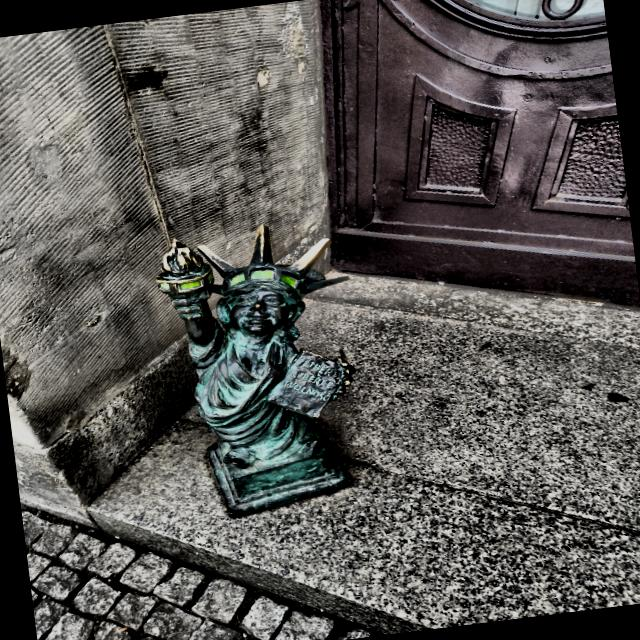LadyWolnosc: (156, 225, 355, 515)
